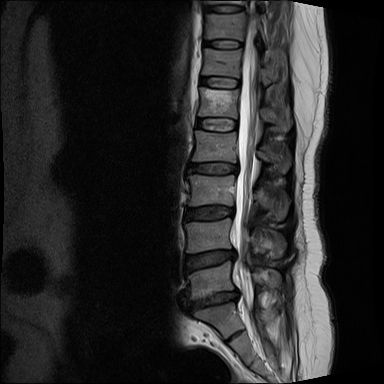Lumbar Disc Bulge (LDB): (178, 282, 245, 318), (179, 239, 242, 276), (175, 200, 241, 229)
Normal IVD: (189, 108, 244, 136), (183, 158, 242, 178), (193, 70, 244, 92), (198, 34, 249, 52), (201, 2, 249, 16)
